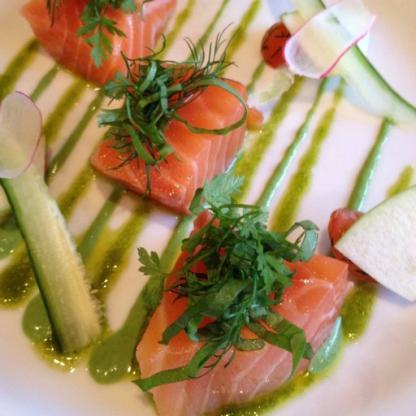salmon: (137, 217, 353, 412), (92, 63, 251, 208), (30, 0, 180, 94)
